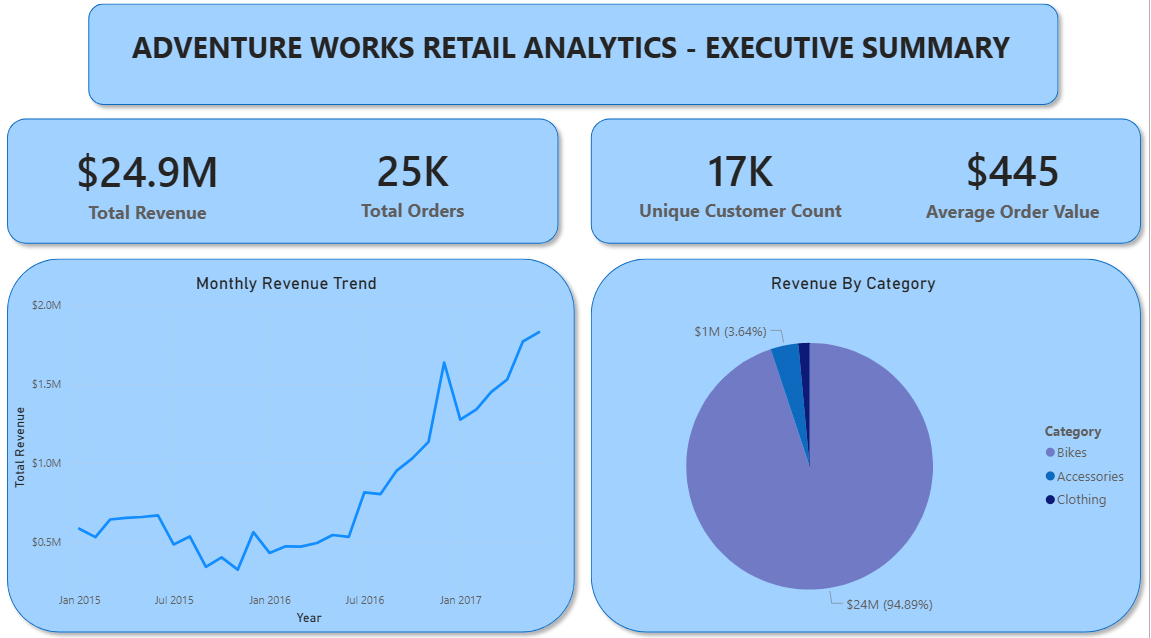

The dashboard page shown, as its layout file describes it:
{"tool":"powerbi","page":{"name":"Part 1","canvas":[1280,720],"ordinal":0},"visuals":[{"type":"shape","box":[90.4,2.8,1097.7,130.8],"z":0},{"type":"shape","box":[649.7,286.6,630.3,434.1],"z":1000},{"type":"shape","box":[0,286.6,649.7,434.1],"z":2000},{"type":"shape","box":[0,130.8,631.7,157.2],"z":3000},{"type":"shape","box":[649.7,130.8,630.3,157.2],"z":4000},{"type":"cardVisual","fields":{"Data":["Count(sales.order_number)"]},"box":[308.9,132.2,303.3,154.4],"z":5000},{"type":"cardVisual","fields":{"Data":["_Measures.Total Revenue"]},"box":[11.1,133.6,308.9,154.4],"z":6000},{"type":"cardVisual","fields":{"Data":["_Measures.Average Order Value"]},"box":[977,131.7,303.3,155.1],"z":7000},{"type":"cardVisual","fields":{"Data":["_Measures.Unique Customer Count"]},"box":[674.8,132.2,301.9,154.4],"z":8000},{"type":"lineChart","title":"Monthly Revenue Trend","fields":{"Y":["_Measures.Total Revenue"],"Category":["sales.order_date.Variation.Date Hierarchy.Year","sales.order_date.Variation.Date Hierarchy.Month"]},"box":[9.7,311.7,620.5,396.5],"z":9000},{"type":"pieChart","title":"Revenue By Category","fields":{"Category":["product_categories.category_name"],"Y":["_Measures.Total Revenue"]},"box":[635.8,311.7,630.3,409],"z":10000},{"type":"textbox","box":[108.5,33.4,1056,71],"z":11000}]}

Visuals, with their boxes in screenshot pixels (x1, y1, x2, y2), scaled from the page's 1280x720 canvas onto the 1151x638 screenshot:
shape: l=81, t=2, r=1068, b=118
shape: l=584, t=254, r=1150, b=637
shape: l=0, t=254, r=584, b=637
shape: l=0, t=116, r=568, b=255
shape: l=584, t=116, r=1150, b=255
cardVisual - Count(sales.order_number): l=278, t=117, r=551, b=254
cardVisual - _Measures.Total Revenue: l=10, t=118, r=288, b=255
cardVisual - _Measures.Average Order Value: l=879, t=117, r=1150, b=254
cardVisual - _Measures.Unique Customer Count: l=607, t=117, r=878, b=254
"Monthly Revenue Trend" lineChart: l=9, t=276, r=567, b=628
"Revenue By Category" pieChart: l=572, t=276, r=1139, b=637
textbox: l=98, t=30, r=1047, b=93
